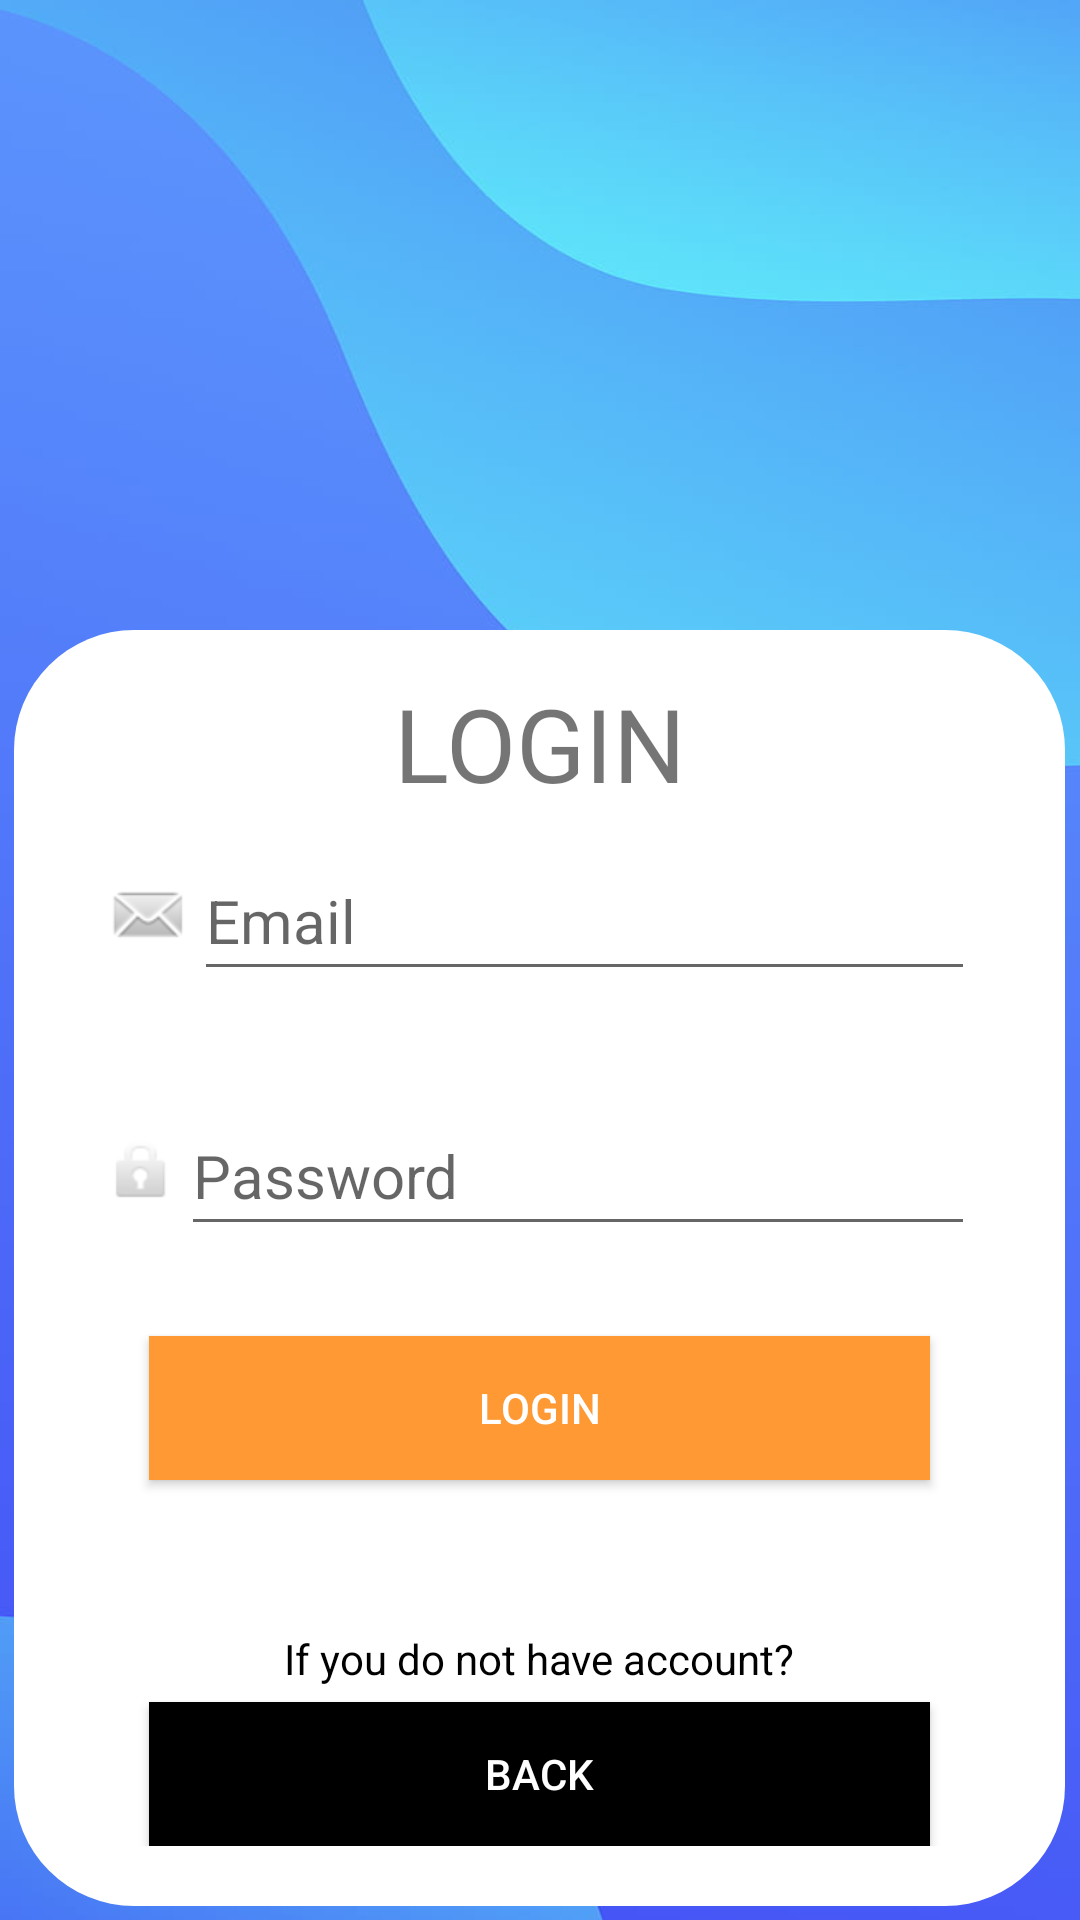

Named icons in this screenshot (1080px x 1920px) and their bounding boxes, bbox=(x1, y1, x2, y2):
lock idle: bbox=(116, 1164, 165, 1197)
